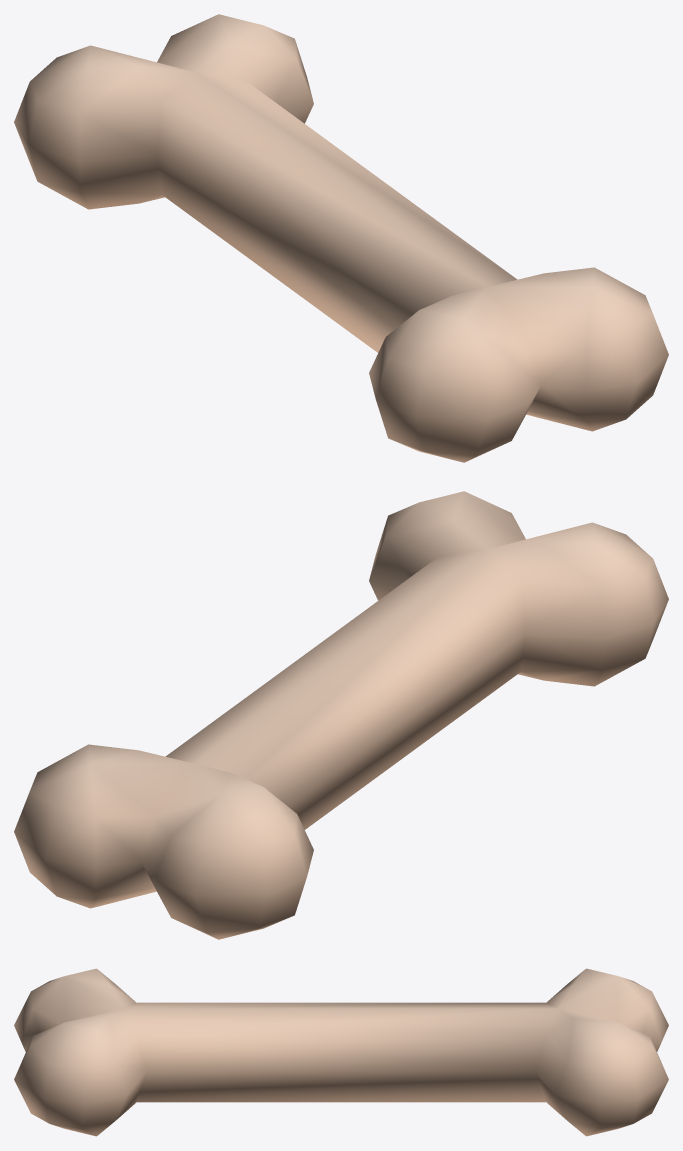
File: Bone1.fbx
The picture shows the model from 3 angles, top to bottom: view 1: azimuth 30°, elevation 25°; view 2: azimuth 150°, elevation 25°; view 3: azimuth 270°, elevation 25°; orthographic projection. The views are drawn at different scales.
Parts seen in each view (by area): view 1: Bone1; view 2: Bone1; view 3: Bone1.
Part boxes in pixels (x1,y1,x2,y2): Bone1: (14,14,668,462); Bone1: (14,491,668,939); Bone1: (14,968,668,1136).
Size of the model in its own units: 11.99 by 5.93 by 33.03.
